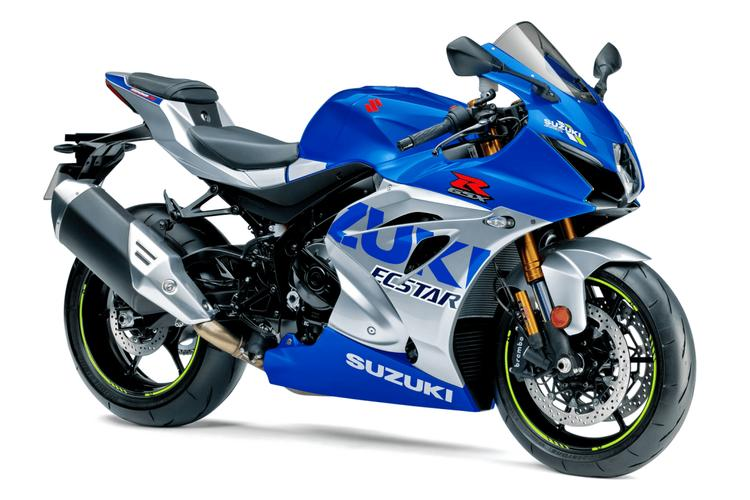摩托车: (29, 20, 705, 489)
